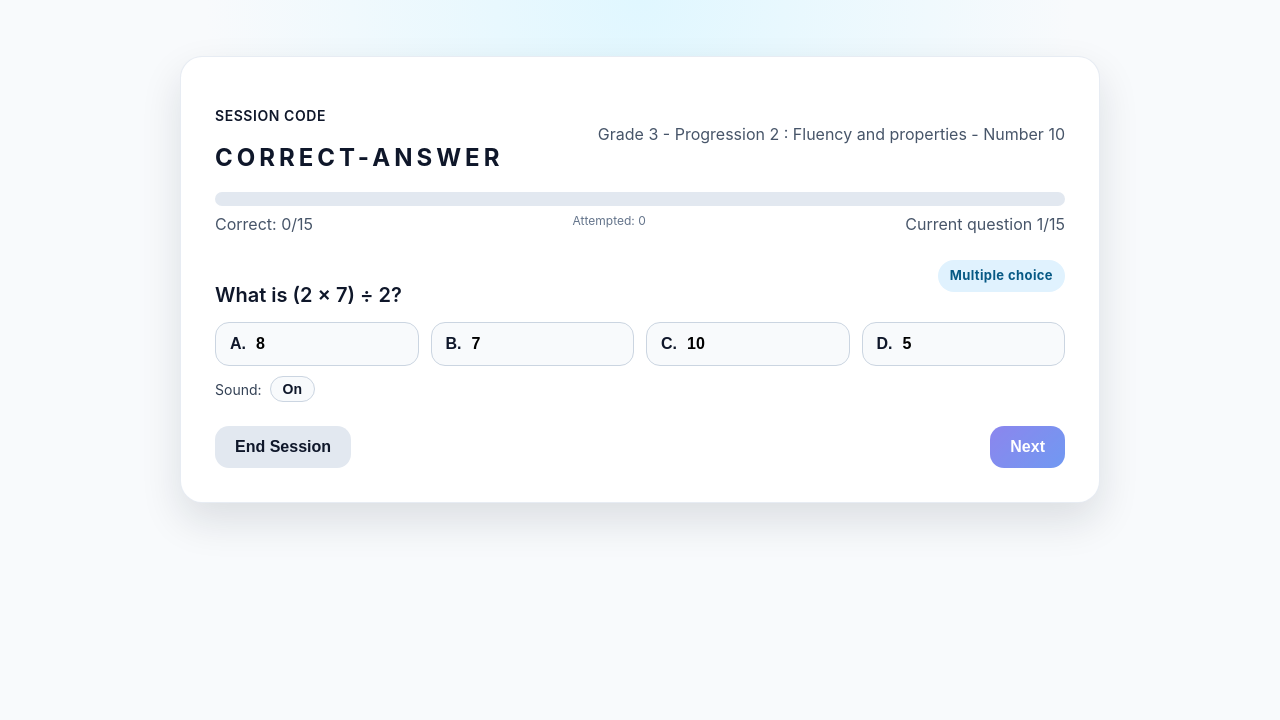
Test: Quiz scoring and progress updates › increases correctCount after a correct answer
The width and height of the screenshot is (1280, 720).
Click the button "B. 7" at (532, 344), box [430, 322, 634, 366]
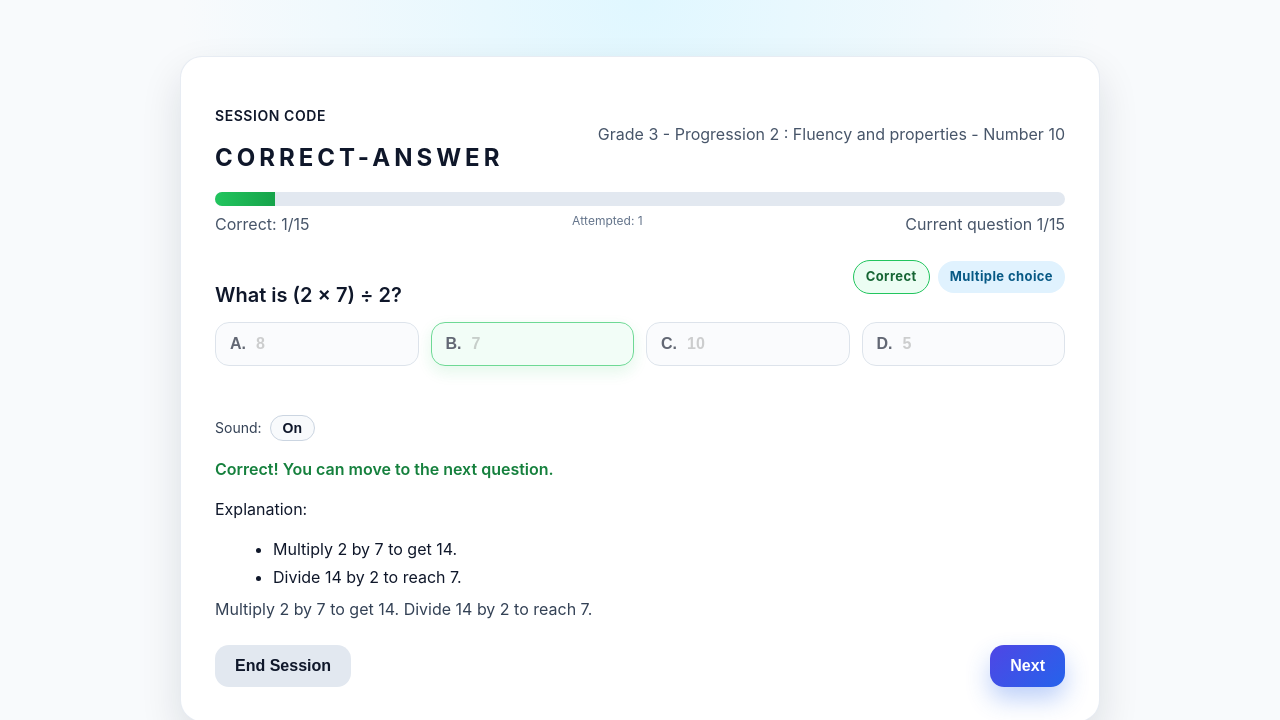
Expected: the text with test id "progress-text" reads "Correct: 1/15", [215, 212, 309, 236]
